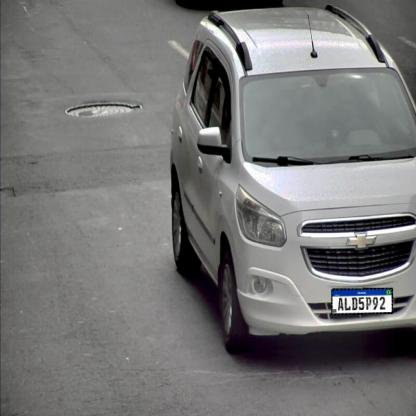PlacaM: (331, 288, 393, 315)
